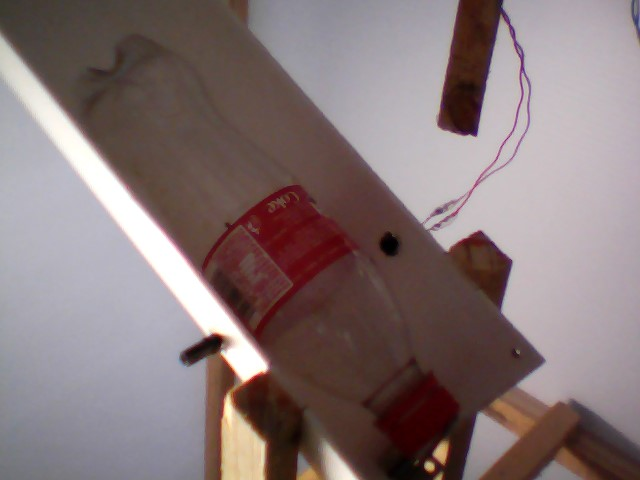plastico: (64, 27, 464, 459)
